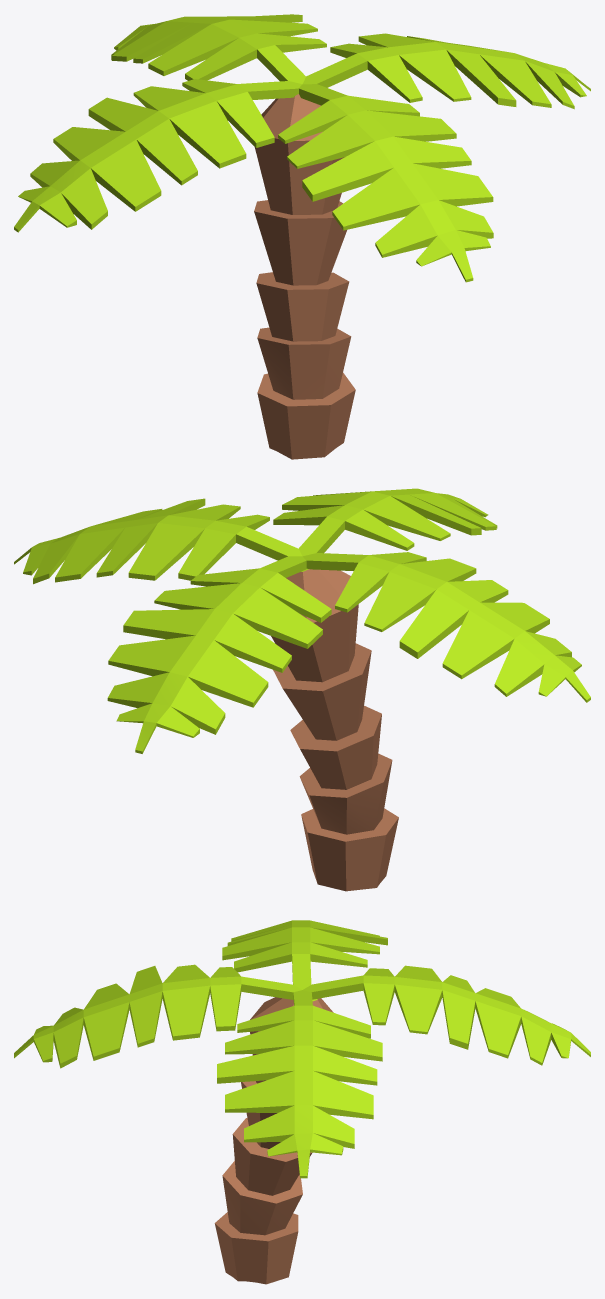
File: SmallPalmTree.obj
The picture shows the model from 3 angles, top to bottom: view 1: azimuth 30°, elevation 25°; view 2: azimuth 150°, elevation 25°; view 3: azimuth 270°, elevation 25°; orthographic projection. The views are drawn at different scales.
Visible parts, largest first — view 1: Cube.000_Cube.006; view 2: Cube.000_Cube.006; view 3: Cube.000_Cube.006.
Boxes of the visible parts, bbox=[...] form: Cube.000_Cube.006: bbox=[14, 14, 590, 459]; Cube.000_Cube.006: bbox=[14, 488, 590, 891]; Cube.000_Cube.006: bbox=[14, 920, 590, 1284].
Bounding box in the file's own units: 4.14 × 2.4 × 4.14.
Materials: 1 (1 with a texture image).
